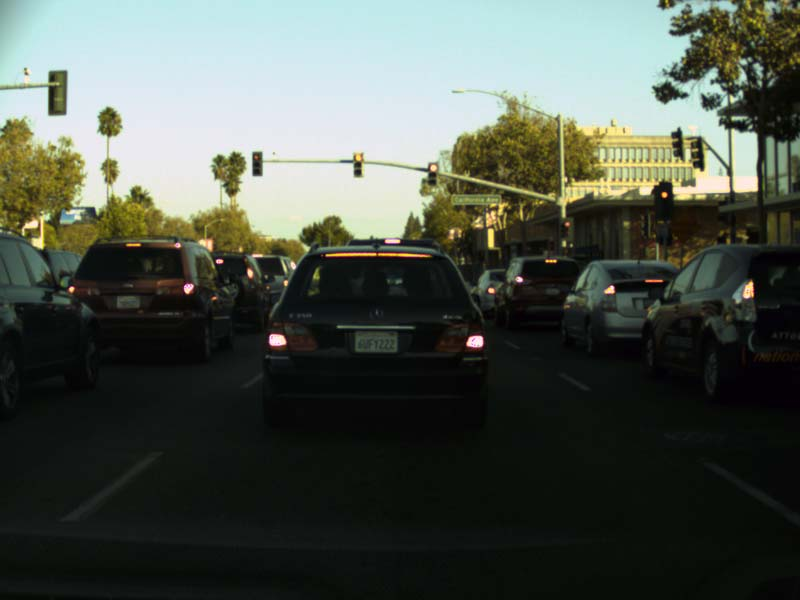Red: (652, 182, 674, 218), (252, 151, 262, 175), (353, 152, 362, 178), (429, 161, 437, 187), (560, 220, 569, 236)
